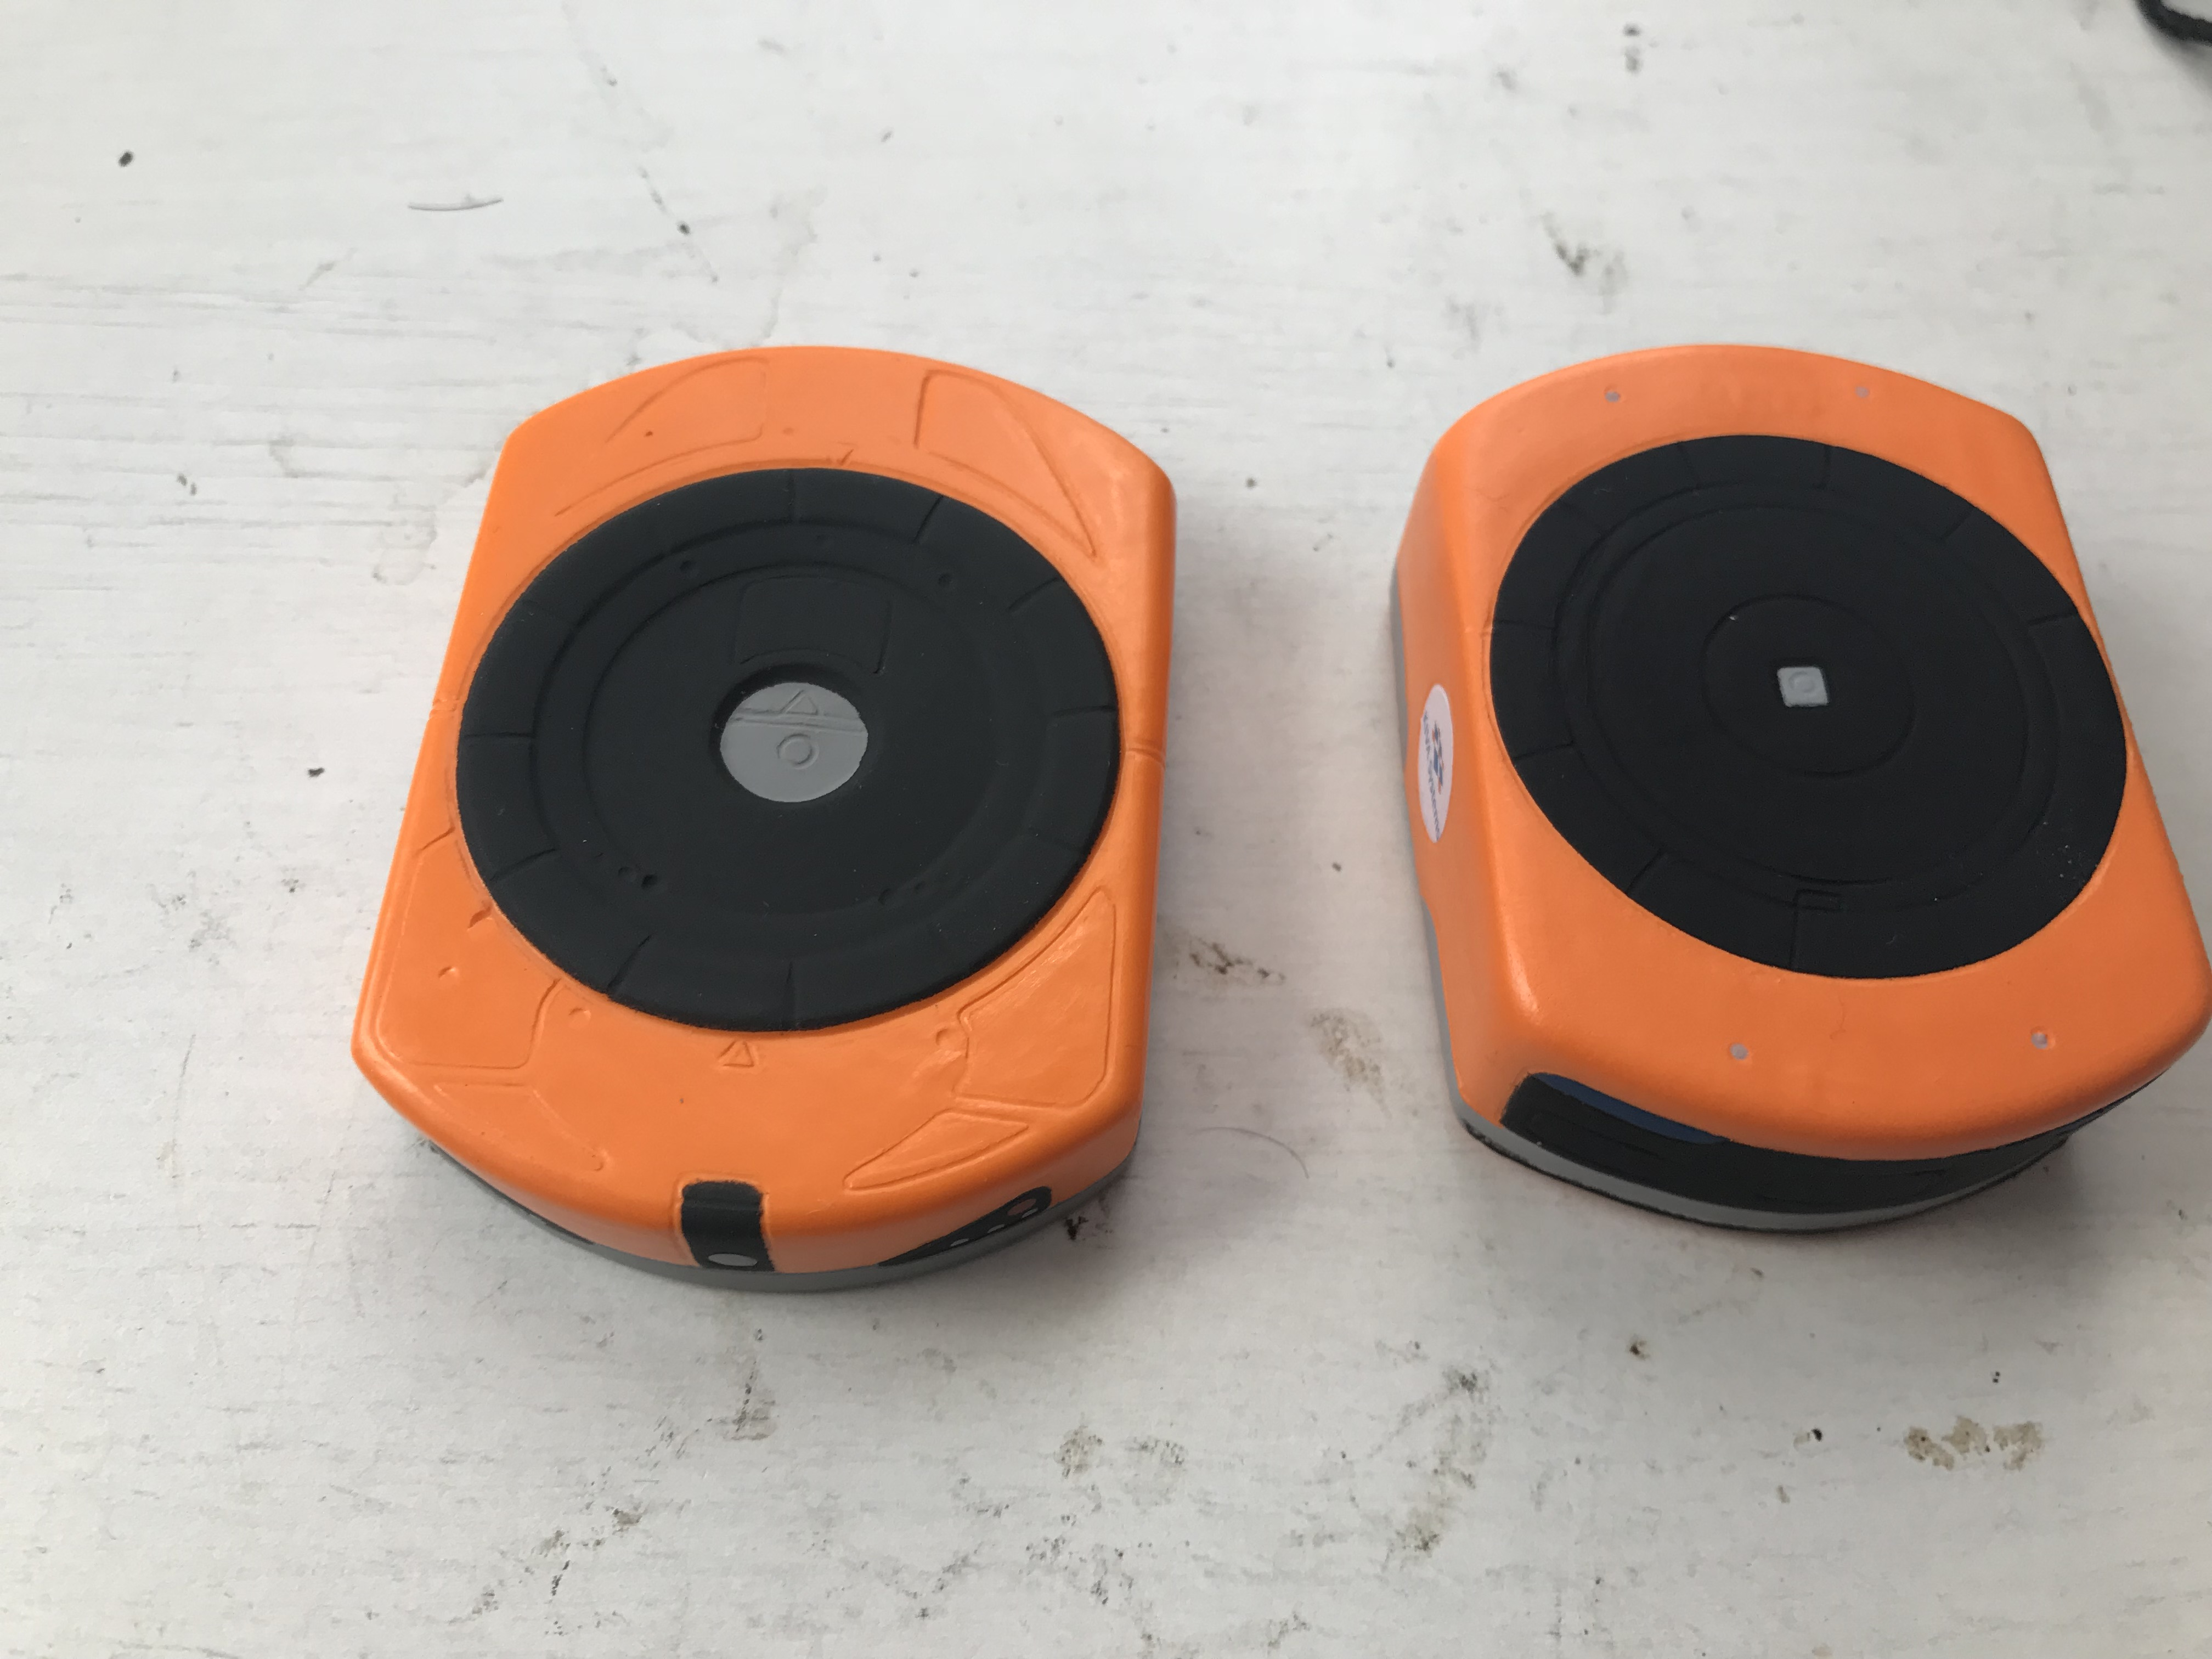amazon_bot: (354, 333, 1195, 1286), (1353, 317, 2212, 1243)
